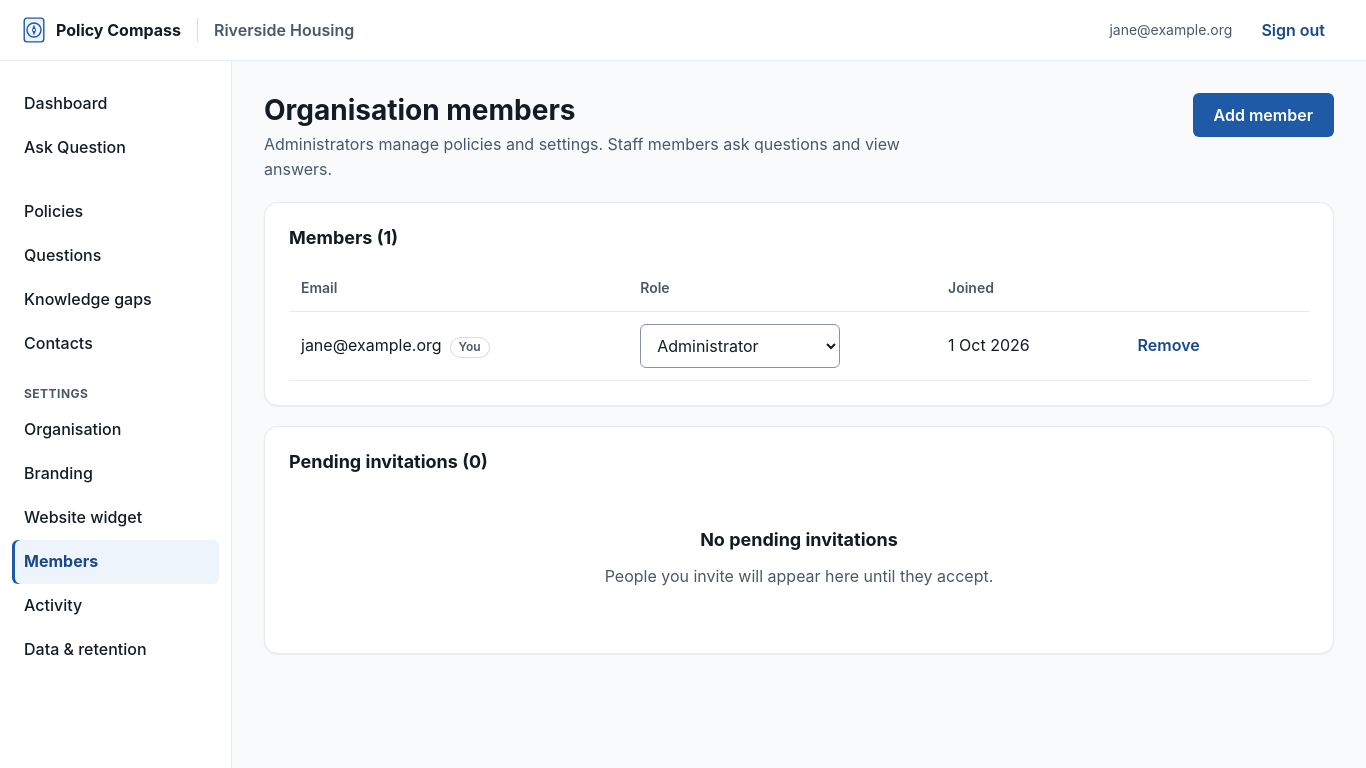
Members page › shows a duplicate membership error in the dialog
Click the button "Add member".
click(1263, 115)  # box [1192,93,1334,137]
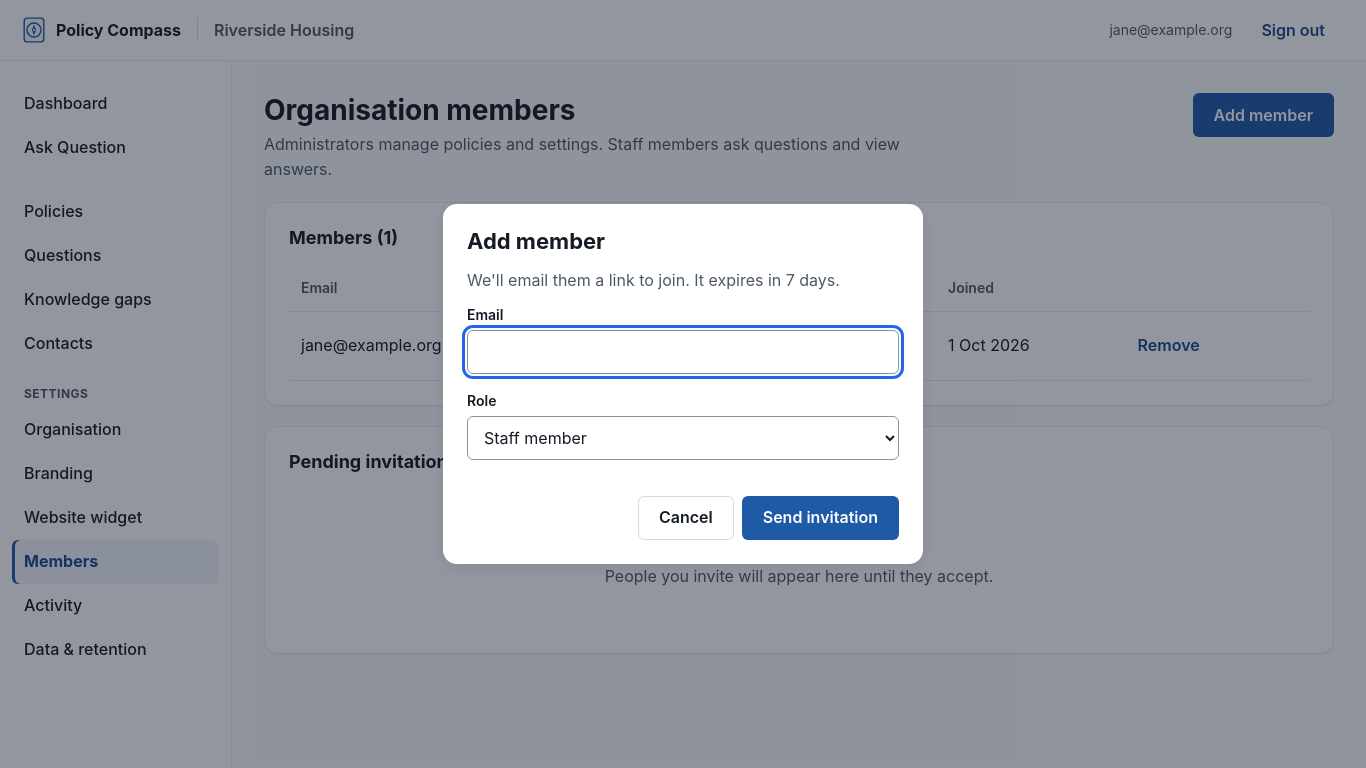
Type "jane@example.org" into the field labelled "Email".
click(683, 352); type("jane@example.org")  # box [467,330,899,374]
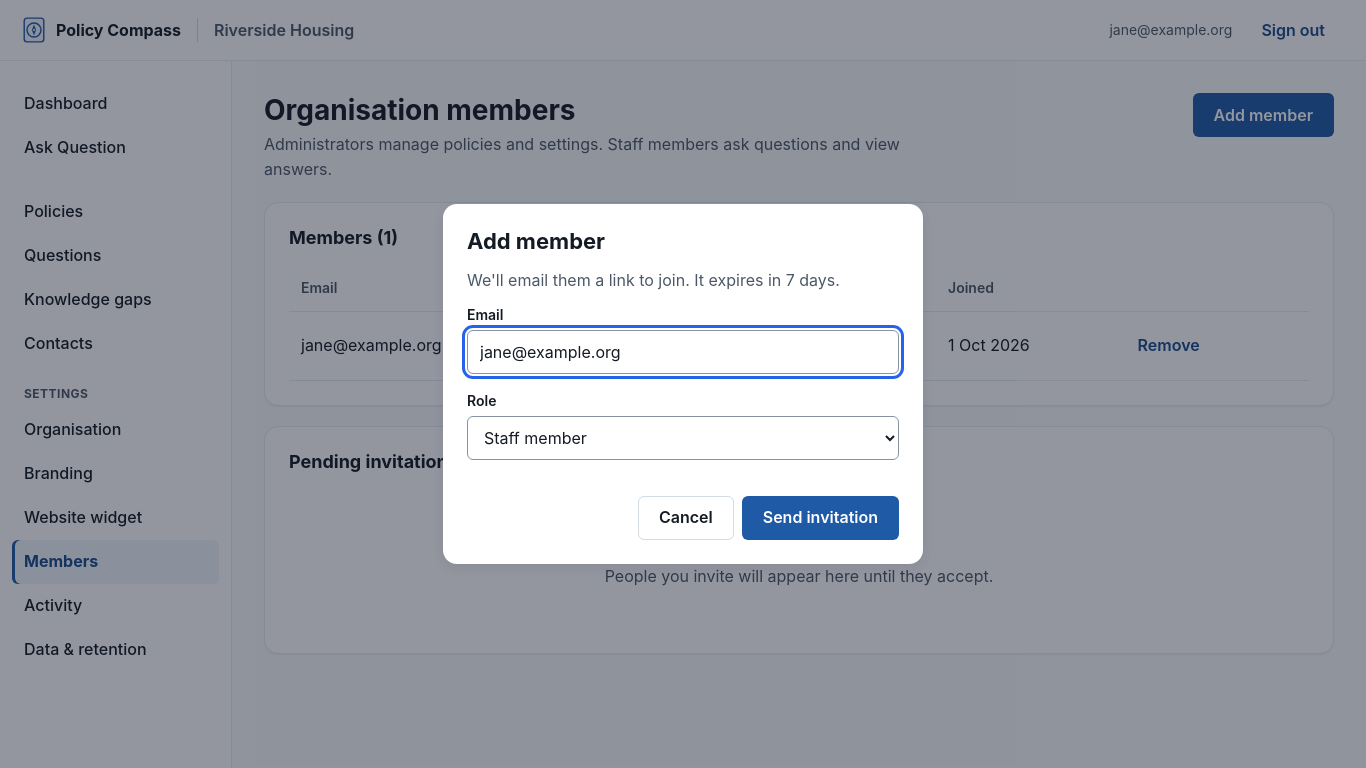
Click the button "Send invitation".
click(820, 518)  # box [742,496,899,540]
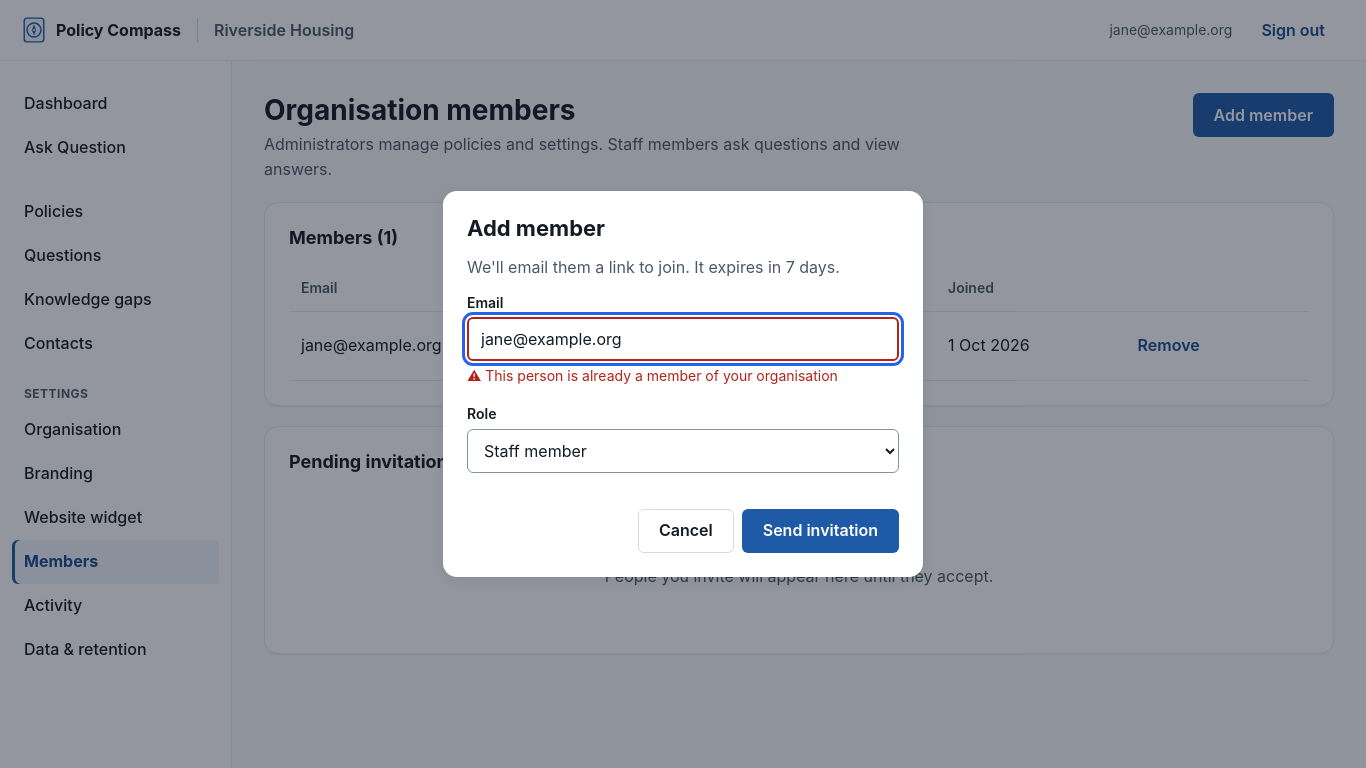
Now the text "⚠ This person is already a member of your organisation" is shown, box [467,365,899,387]
